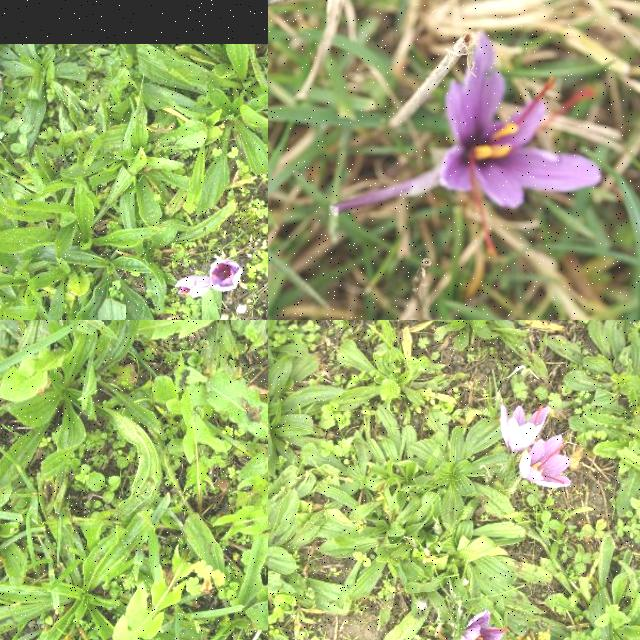flower: (440, 32, 602, 262), (520, 434, 572, 488), (500, 405, 550, 451), (462, 612, 510, 640), (209, 258, 245, 290), (177, 278, 210, 300)
